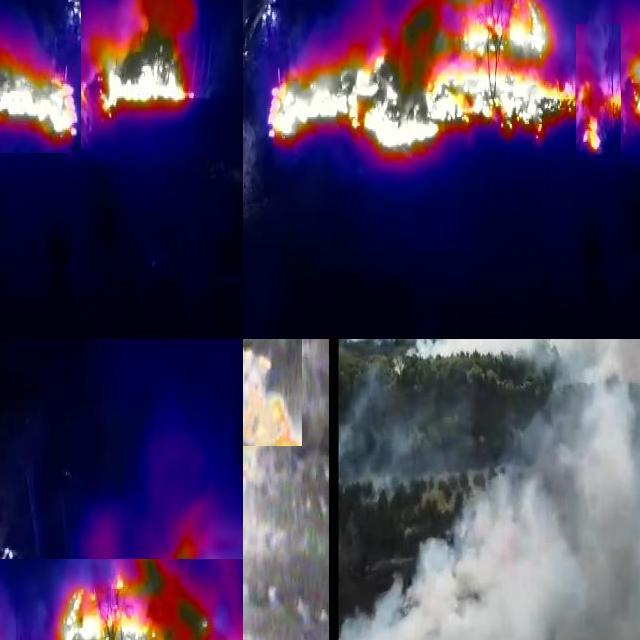fire: (263, 1, 575, 155), (1, 559, 244, 640), (92, 1, 192, 114), (244, 340, 302, 446), (576, 24, 621, 159)
